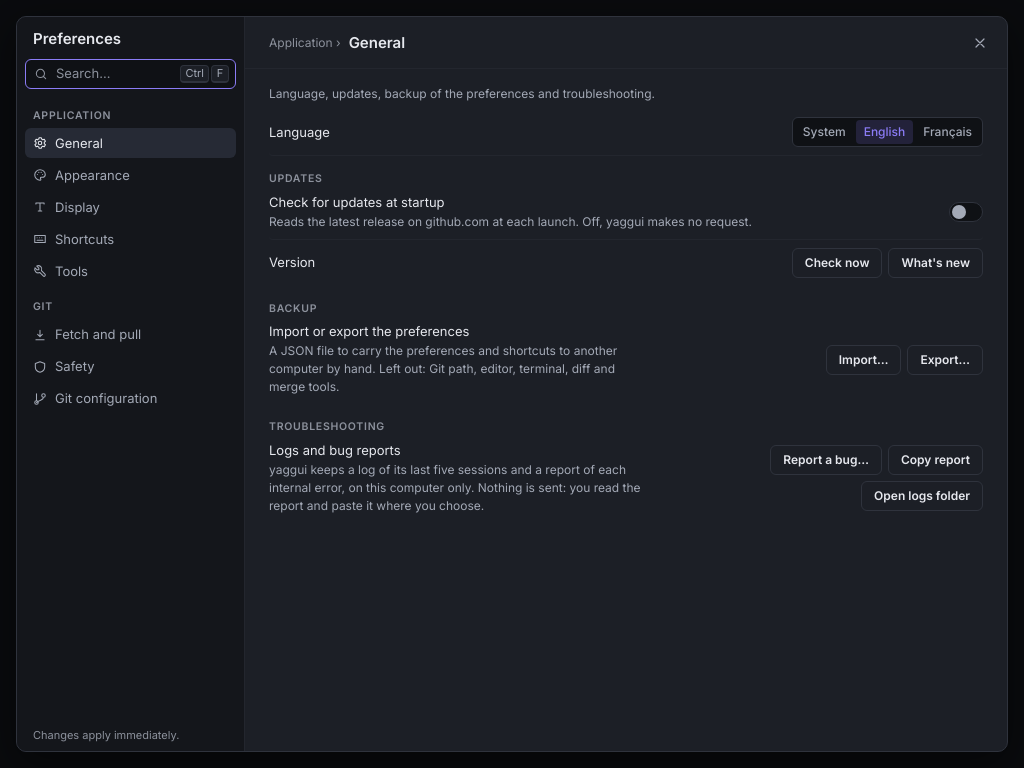
Scenario: Preferences dialog › says when nothing matches
The image size is (1024, 768).
Step 1. Type "qwxz" into the search field → {"x": 114, "y": 73}, box [54, 64, 174, 83]
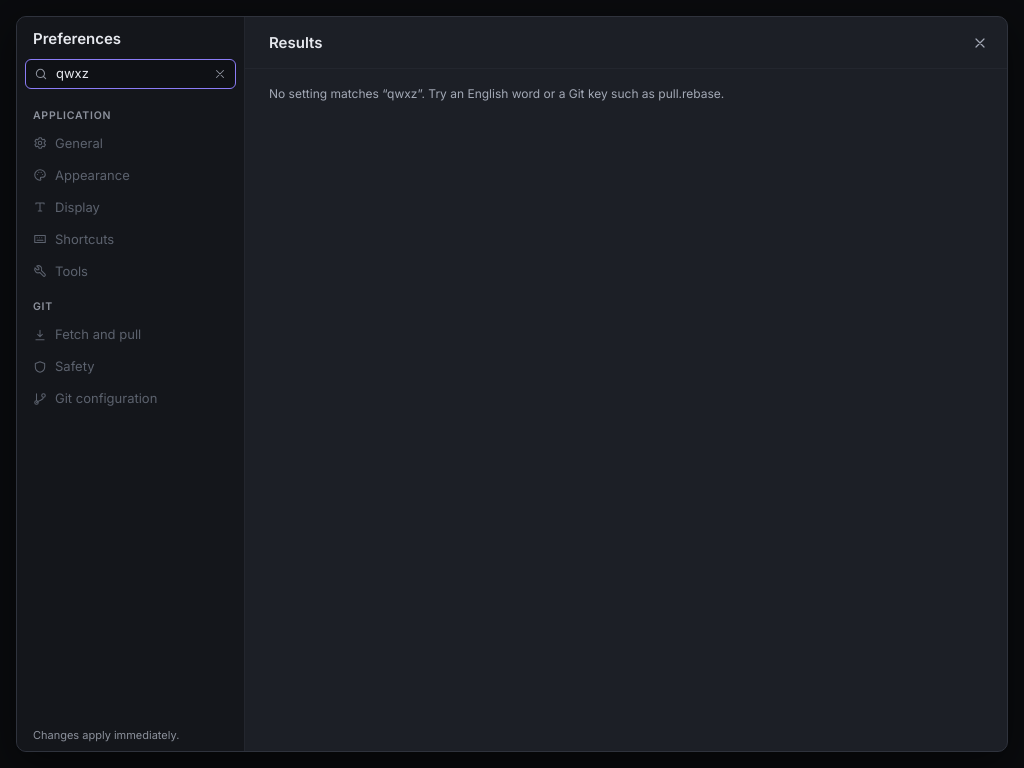
Check: the text "No setting matches “qwxz”" is shown, box [269, 86, 724, 101]
